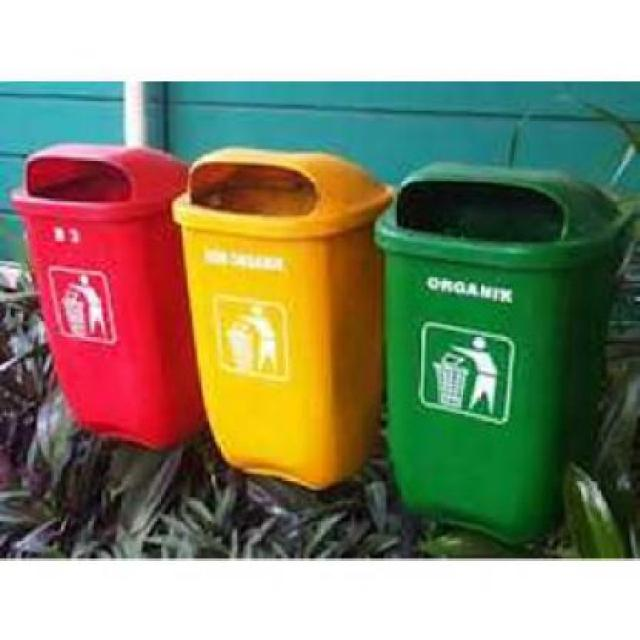garbage container: (375, 158, 623, 553), (172, 137, 391, 501), (2, 132, 201, 474)
